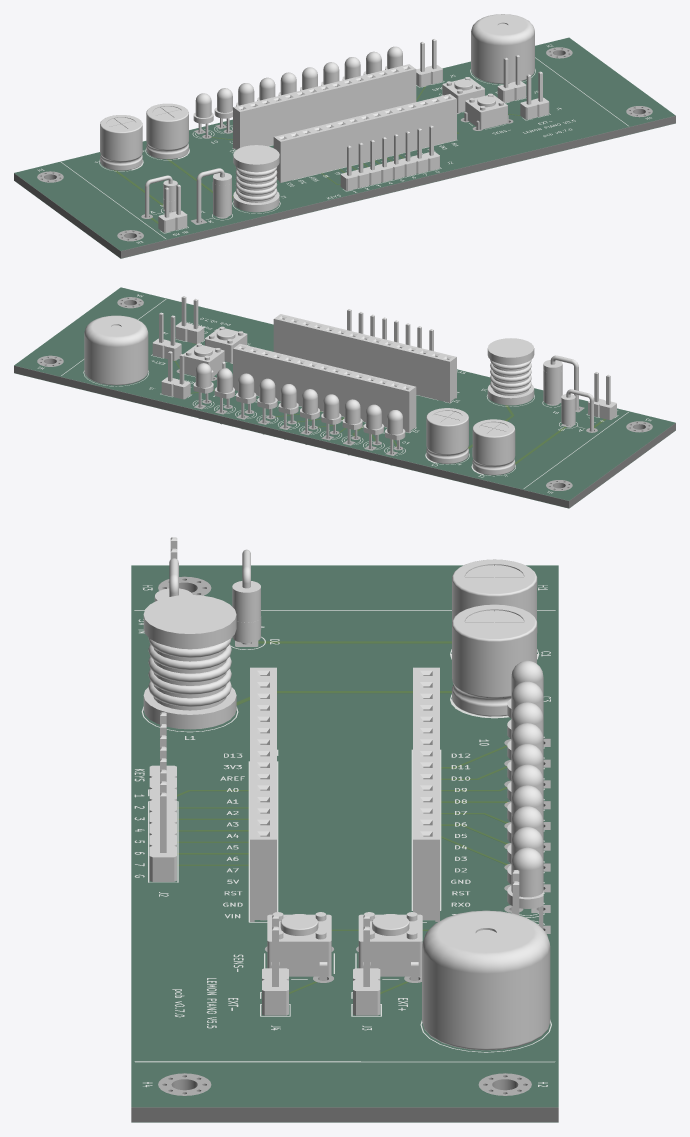
The model's file is lemon-piano-v0.7.0.glb.
3 views of the same model, one above another, from view 1: azimuth 30°, elevation 25°; view 2: azimuth 150°, elevation 25°; view 3: azimuth 270°, elevation 25° (orthographic). The views are drawn at different scales.
Visible parts, largest first — view 1: =>[0:1:1:24], =>[0:1:1:22], U1, U2, BUZ1, J2, L1, C3, C1, =>[0:1:1:20], =>[0:1:1:18], SW2 (+10 smaller); view 2: =>[0:1:1:24], =>[0:1:1:22], U1, U2, BUZ1, L1, C1, C3, =>[0:1:1:18], =>[0:1:1:20], D1, SW1 (+18 smaller); view 3: =>[0:1:1:22], =>[0:1:1:24], BUZ1, L1, C3, U1, U2, =>[0:1:1:20], =>[0:1:1:18], C1, J2, SW1 (+6 smaller).
Part boxes in pixels (x1=…): =>[0:1:1:24]: x1=14, y1=38, x2=675, y2=258; =>[0:1:1:22]: x1=14, y1=37, x2=675, y2=250; U1: x1=273, y1=94, x2=456, y2=182; U2: x1=233, y1=64, x2=416, y2=149; BUZ1: x1=471, y1=14, x2=534, y2=83; J2: x1=340, y1=125, x2=439, y2=190; L1: x1=233, y1=145, x2=279, y2=212; C3: x1=146, y1=103, x2=188, y2=159; C1: x1=100, y1=115, x2=142, y2=170; =>[0:1:1:20]: x1=37, y1=44, x2=651, y2=243; =>[0:1:1:18]: x1=37, y1=47, x2=652, y2=241; SW2: x1=464, y1=93, x2=508, y2=129; =>[0:1:1:24]: x1=14, y1=288, x2=675, y2=508; =>[0:1:1:22]: x1=14, y1=287, x2=675, y2=500; U1: x1=273, y1=314, x2=456, y2=402; U2: x1=233, y1=344, x2=416, y2=432; BUZ1: x1=84, y1=315, x2=148, y2=385; L1: x1=487, y1=338, x2=534, y2=405; C1: x1=472, y1=419, x2=515, y2=475; C3: x1=426, y1=408, x2=468, y2=463; =>[0:1:1:18]: x1=37, y1=297, x2=652, y2=490; =>[0:1:1:20]: x1=37, y1=294, x2=651, y2=493; D1: x1=543, y1=355, x2=578, y2=410; SW1: x1=183, y1=343, x2=225, y2=379; =>[0:1:1:22]: x1=131, y1=565, x2=558, y2=1107; =>[0:1:1:24]: x1=131, y1=566, x2=558, y2=1122; BUZ1: x1=422, y1=910, x2=550, y2=1050; L1: x1=143, y1=595, x2=236, y2=729; C3: x1=452, y1=604, x2=537, y2=716; U1: x1=250, y1=667, x2=276, y2=921; U2: x1=413, y1=667, x2=439, y2=921; =>[0:1:1:20]: x1=134, y1=585, x2=555, y2=1087; =>[0:1:1:18]: x1=158, y1=576, x2=550, y2=1095; C1: x1=452, y1=559, x2=537, y2=650; J2: x1=149, y1=712, x2=176, y2=881; SW1: x1=358, y1=912, x2=422, y2=980.
Bounding box in the file's own units: 0.12 × 0.0135 × 0.04.
